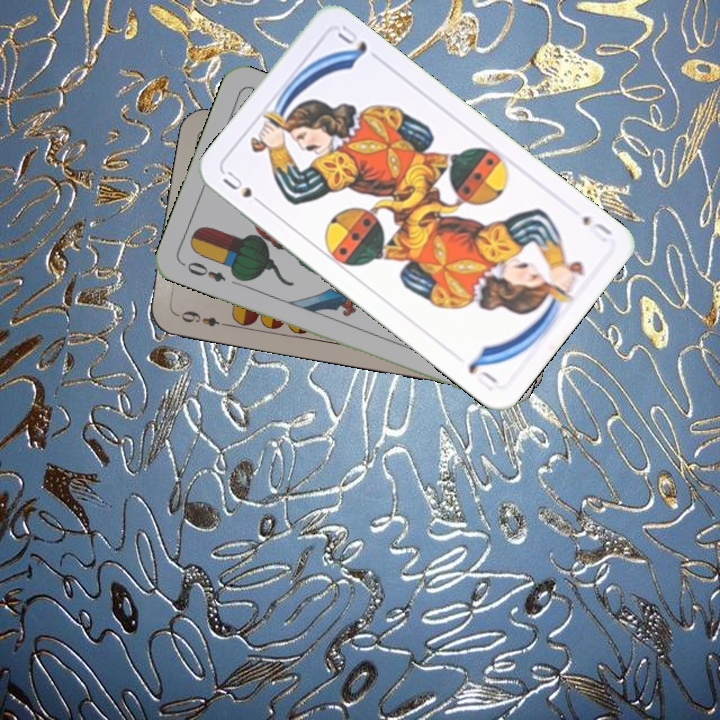E9: (171, 306, 230, 330)
EO: (178, 257, 229, 285)
SU: (218, 166, 269, 210), (578, 211, 615, 245)
